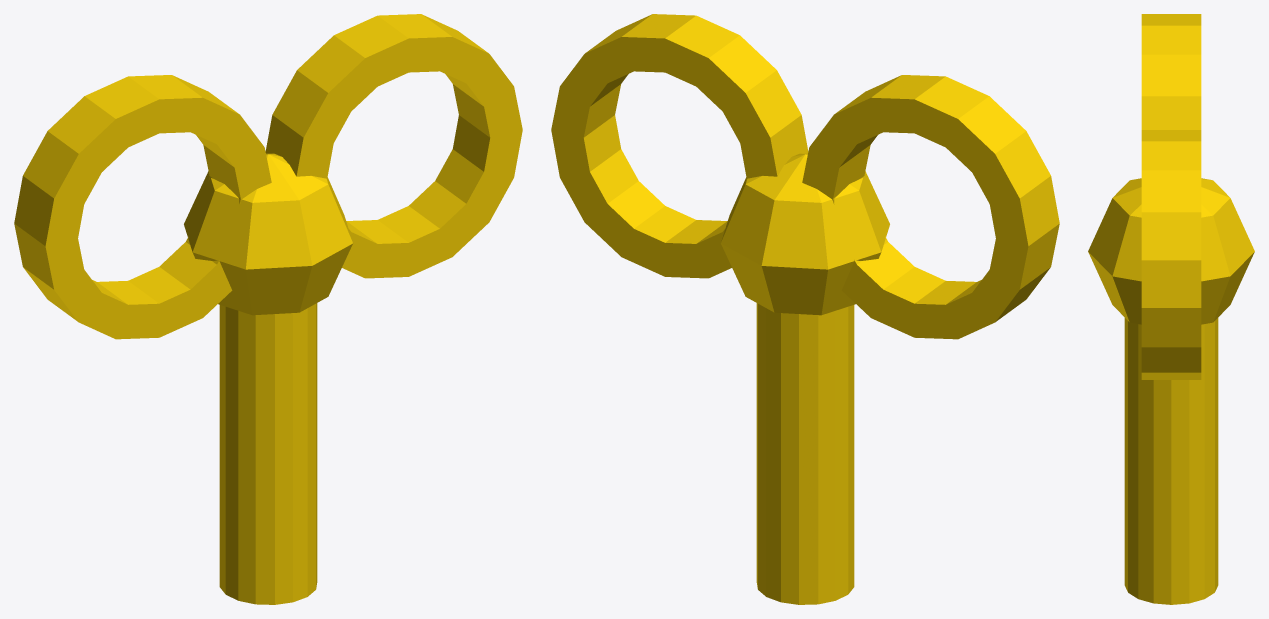
Rendered from windup.fbx.
3 views of the same model, side by side, from view 1: azimuth 30°, elevation 25°; view 2: azimuth 150°, elevation 25°; view 3: azimuth 270°, elevation 25° (orthographic). The views are drawn at different scales.
Visible parts, largest first — view 1: Cylinder.002; view 2: Cylinder.002; view 3: Cylinder.002.
Boxes of the visible parts, x1=… form: Cylinder.002: x1=14, y1=14, x2=522, y2=604; Cylinder.002: x1=551, y1=14, x2=1059, y2=604; Cylinder.002: x1=1088, y1=14, x2=1254, y2=604.
Size of the model in its own units: 440 by 464 by 140.
